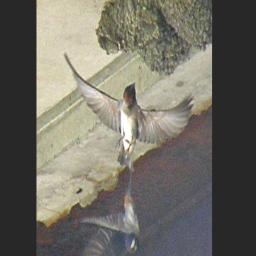Swallow: (61, 50, 197, 176)
